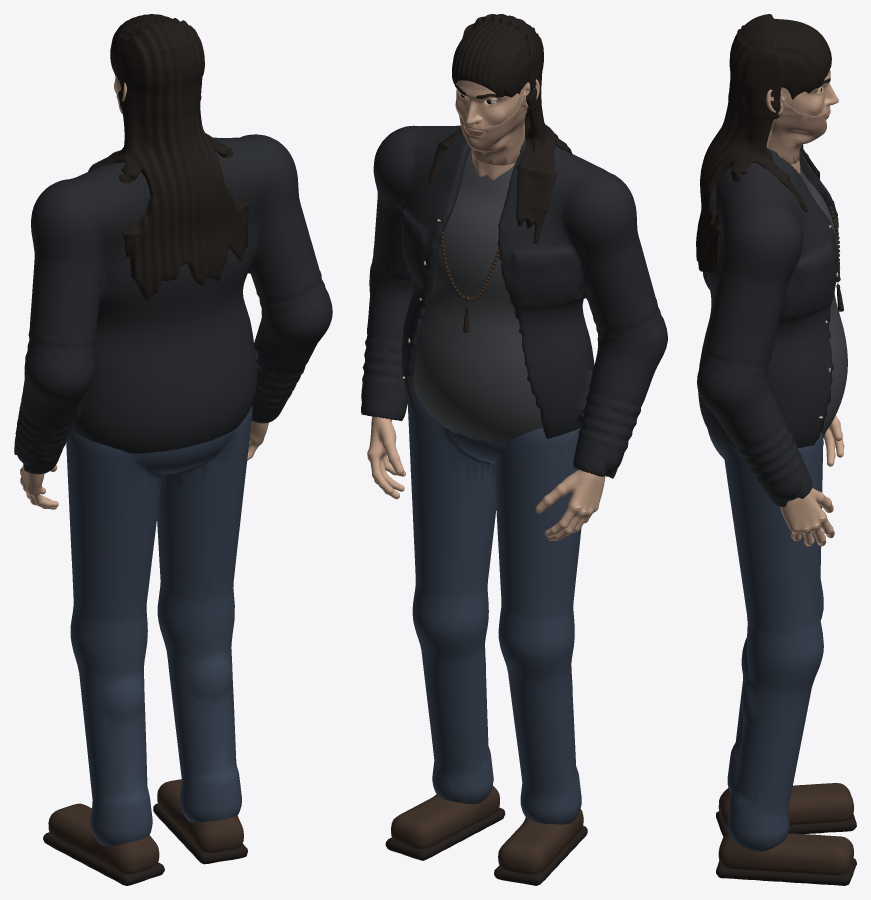
File: him_stand.glb
3 views of the same model, side by side, from view 1: azimuth 30°, elevation 25°; view 2: azimuth 150°, elevation 25°; view 3: azimuth 270°, elevation 25° (orthographic).
Parts seen in each view (by area): view 1: him_stand_body, him_stand_head, him_stand_hands; view 2: him_stand_body, him_stand_head, him_stand_hands; view 3: him_stand_body, him_stand_head, him_stand_hands.
Boxes of the visible parts, x1,y1,x2,y2 form: him_stand_body: (14, 134, 332, 885); him_stand_head: (88, 14, 249, 300); him_stand_hands: (14, 399, 287, 509); him_stand_body: (361, 125, 667, 885); him_stand_head: (428, 14, 572, 243); him_stand_hands: (361, 383, 617, 540); him_stand_body: (697, 144, 856, 885); him_stand_head: (696, 14, 838, 273); him_stand_hands: (760, 415, 844, 546).
Bounding box in the file's own units: 0.7187 × 1.94 × 0.3402.
